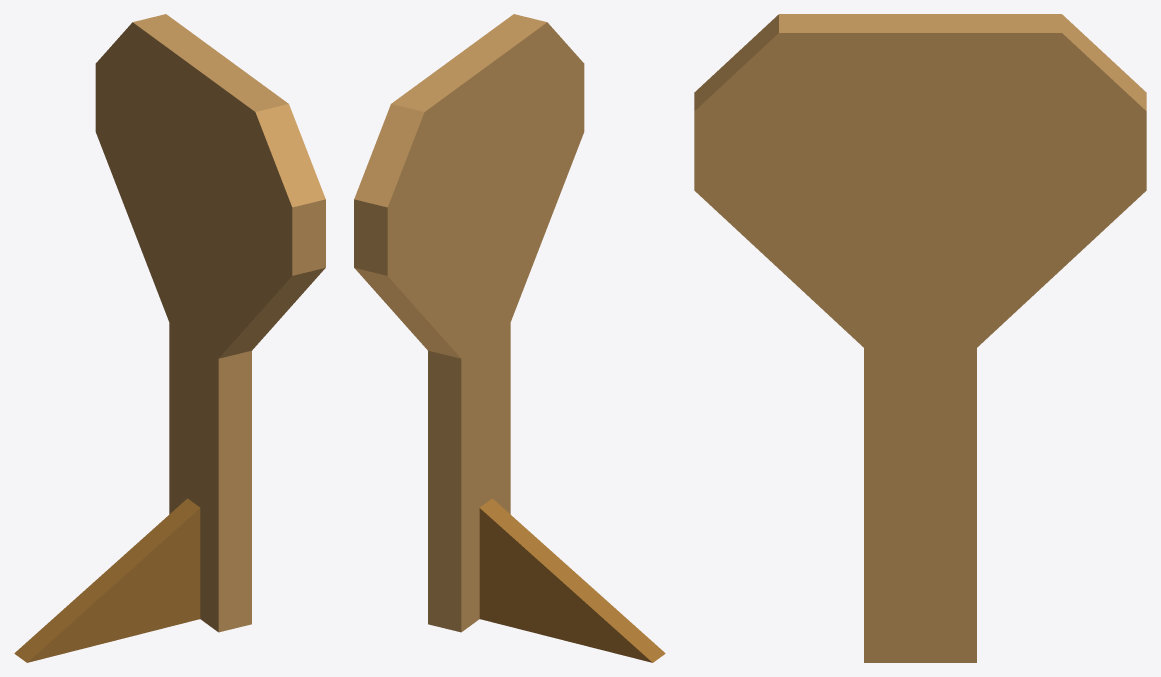
Rendered from (Multi)CarboardCutout4WIP.fbx.
3 views of the same model, side by side, from view 1: azimuth 30°, elevation 25°; view 2: azimuth 150°, elevation 25°; view 3: azimuth 270°, elevation 25° (orthographic). The views are drawn at different scales.
Visible parts, largest first — view 1: Cube.001; view 2: Cube.001; view 3: Cube.001.
Boxes of the visible parts, x1,y1,x2,y2 form: Cube.001: [14, 14, 325, 662]; Cube.001: [354, 14, 665, 662]; Cube.001: [694, 14, 1146, 662].
Bounding box in the file's own units: 216 × 548 × 356.
